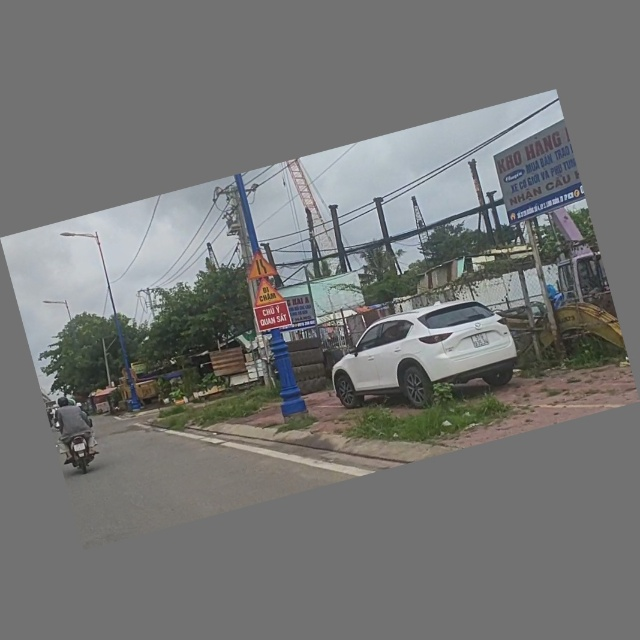W.203c: (242, 248, 280, 283)
W.245a: (248, 275, 290, 309)
